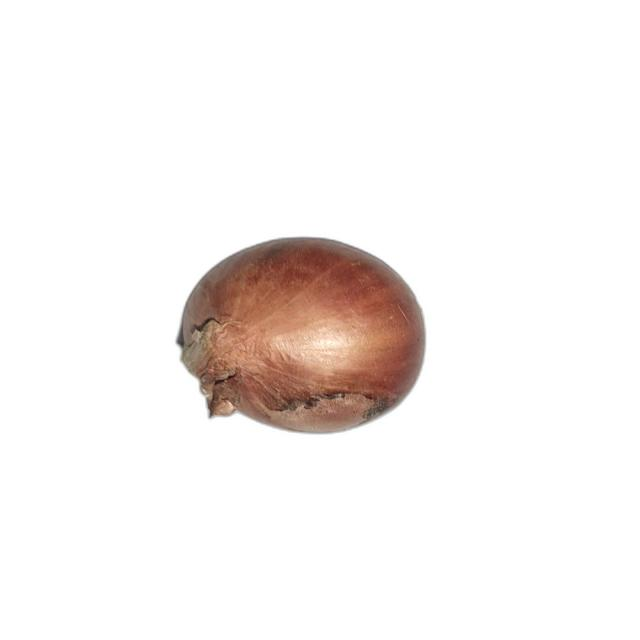onion: (175, 235, 427, 436)
